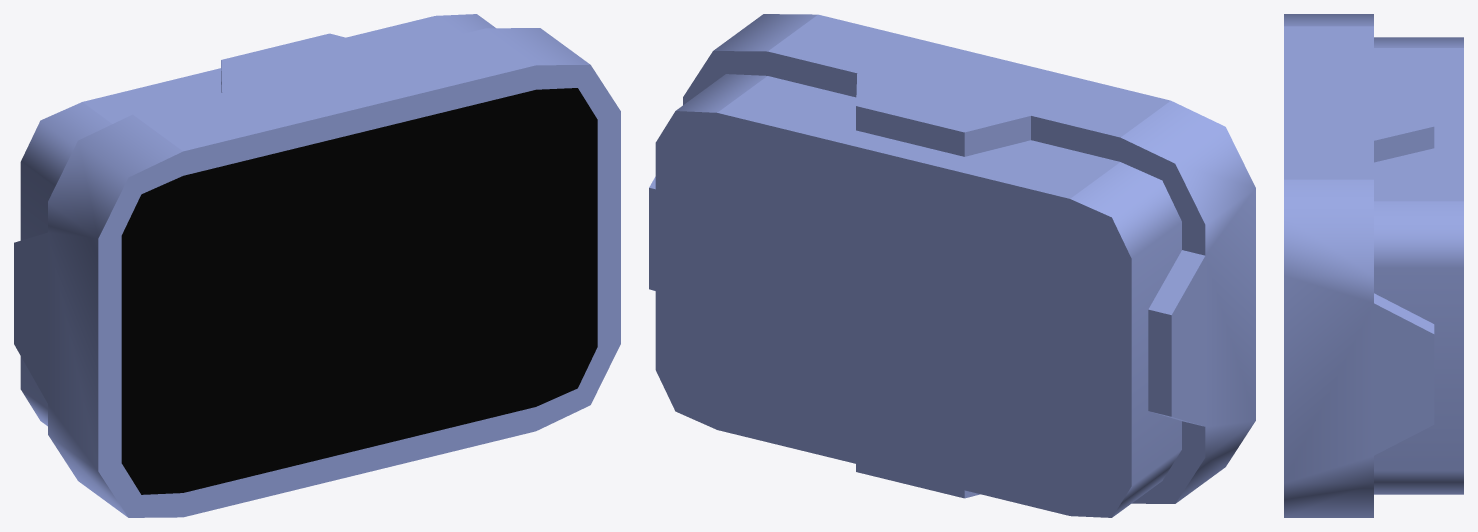
Rendered from rfs_lcd_small_lod1.fbx.
3 renders of one model, left to right at view 1: azimuth 30°, elevation 25°; view 2: azimuth 150°, elevation 25°; view 3: azimuth 270°, elevation 25°, orthographic. The views are drawn at different scales.
Visible parts, largest first — view 1: obj_interactive_textsign_small.002; view 2: obj_interactive_textsign_small.002; view 3: obj_interactive_textsign_small.002.
Boxes of the visible parts, x1,y1,x2,y2 form: obj_interactive_textsign_small.002: [14, 14, 620, 517]; obj_interactive_textsign_small.002: [649, 14, 1255, 517]; obj_interactive_textsign_small.002: [1284, 14, 1463, 517].
Bounding box in the file's own units: 2.99 × 2 × 1.
